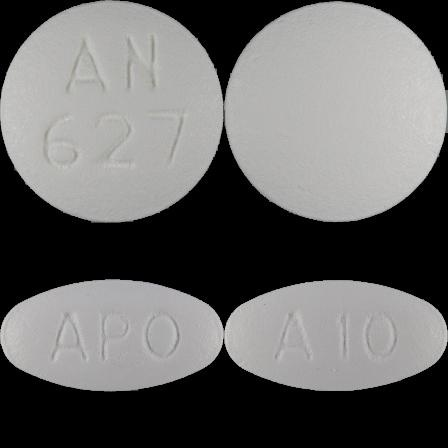0615-8005: (0, 0, 224, 224)
